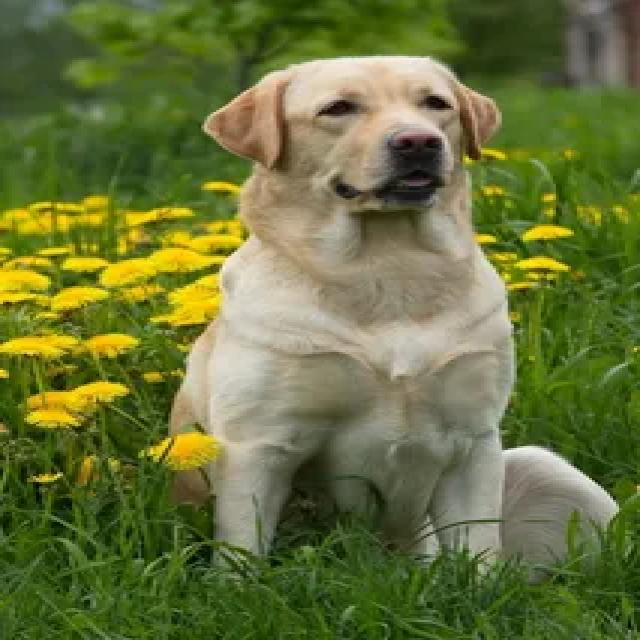Dog: (196, 51, 526, 582)
